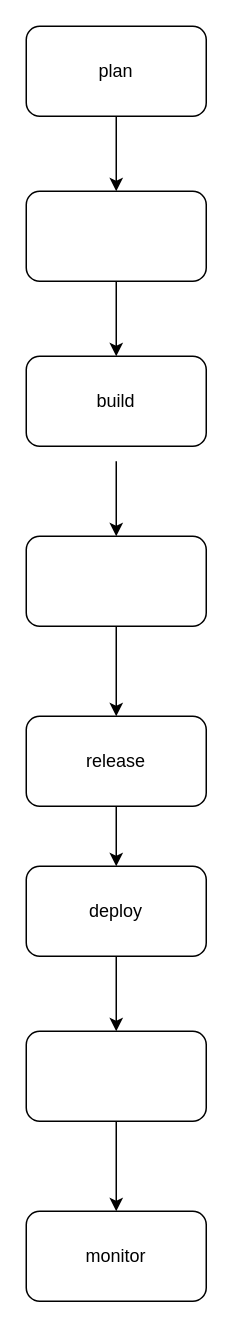
This 233x1328 diagram has some shape labels left out. The centre of each missing label's shape, as x and y in pixels:
"development" belongs at (115,235).
"operate" belongs at (115,1075).
"testing" belongs at (115,580).
